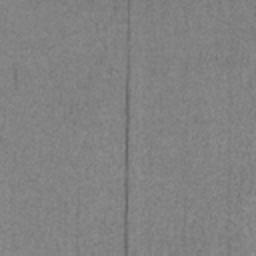Scratches: (0, 124, 201, 130)
